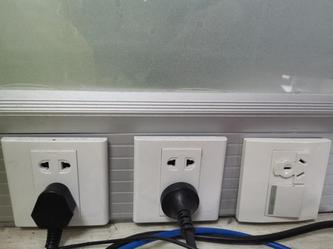switch: (264, 182, 308, 220)
